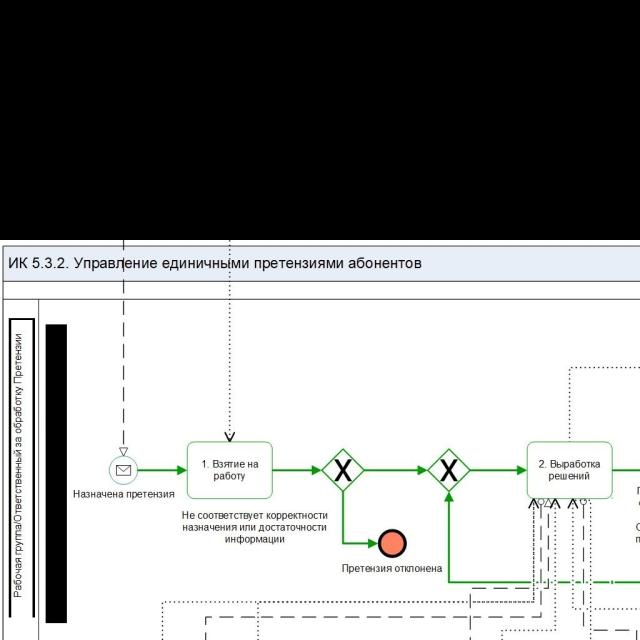arrow: (342, 494, 378, 550), (364, 465, 427, 475), (470, 465, 527, 476), (139, 466, 187, 476), (274, 466, 322, 475)
circle: (109, 457, 138, 484), (379, 530, 406, 558)
diamond: (428, 447, 470, 492), (322, 448, 364, 492)
rectangle: (186, 442, 273, 499), (528, 442, 613, 499)
text_region: (182, 510, 328, 545), (73, 488, 175, 499), (341, 564, 443, 574)
